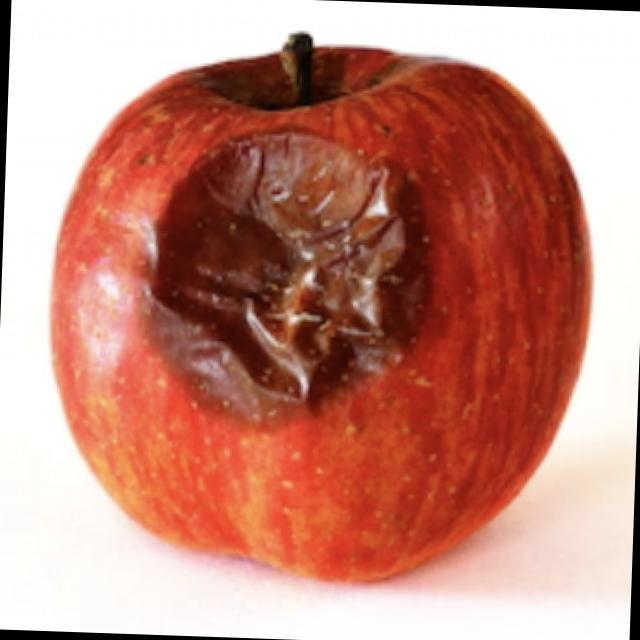rotten_apple: (38, 27, 601, 594)
